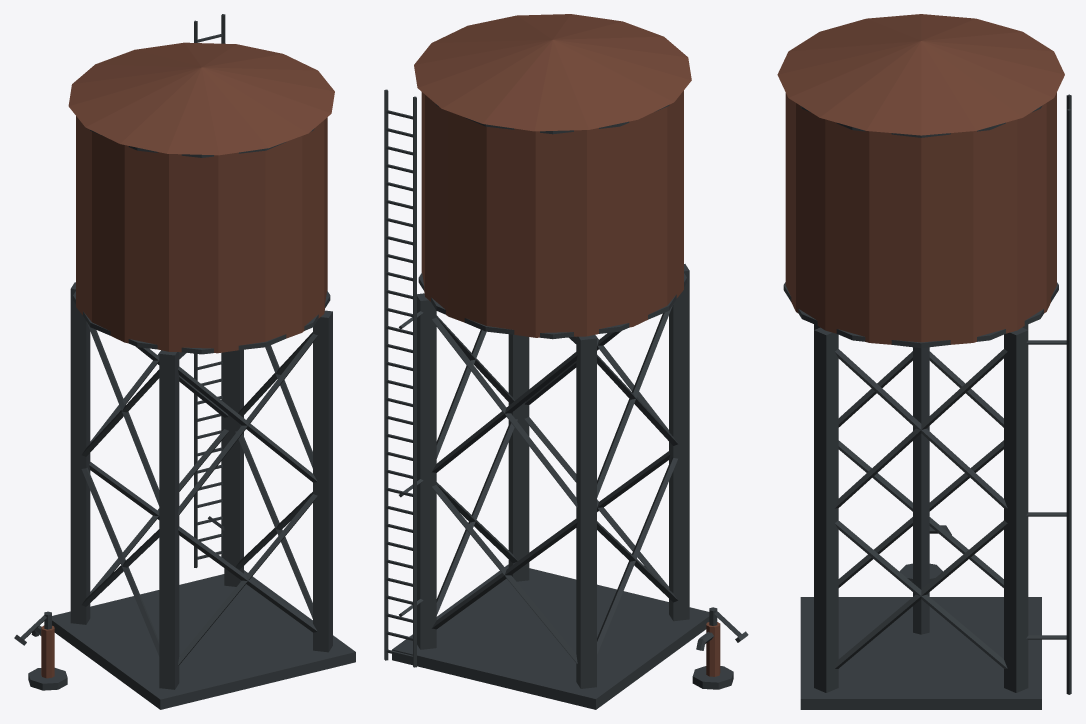
The model's file is water-tower.fbx.
The picture shows the model from 3 angles, left to right: view 1: azimuth 30°, elevation 25°; view 2: azimuth 150°, elevation 25°; view 3: azimuth 270°, elevation 25°; orthographic projection. The views are drawn at different scales.
Parts seen in each view (by area): view 1: WaterTower; view 2: WaterTower; view 3: WaterTower.
Part boxes in pixels (<box>): WaterTower: <box>14,14,355,709</box>; WaterTower: <box>384,14,748,709</box>; WaterTower: <box>777,14,1071,709</box>.
Bounding box in the file's own units: 5.47 × 10.05 × 4.34.
